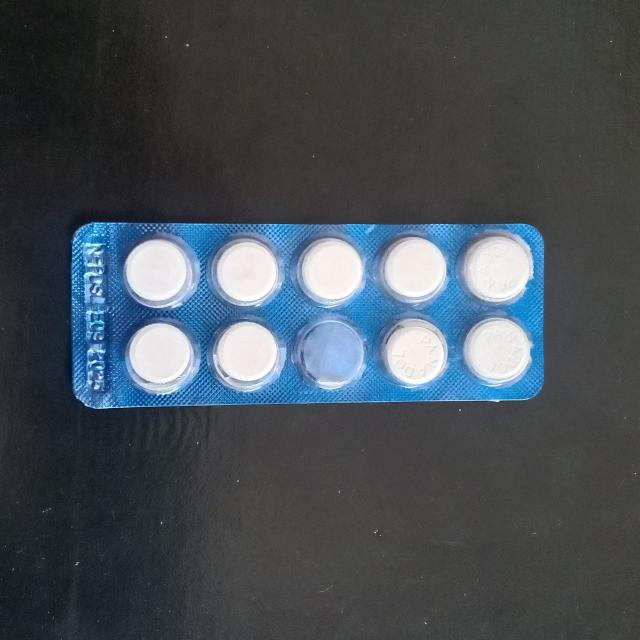defect: (292, 315, 369, 392)
